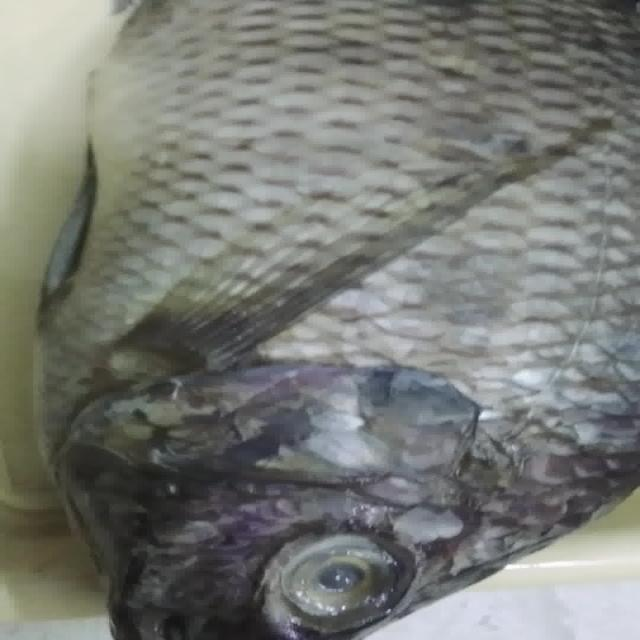Non-Fresh: (107, 233, 610, 510), (271, 529, 407, 620)
